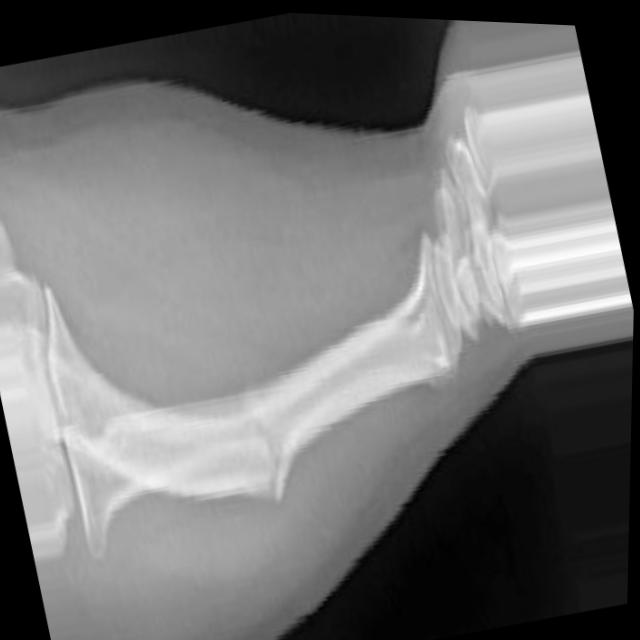fracture: (230, 351, 310, 529)
